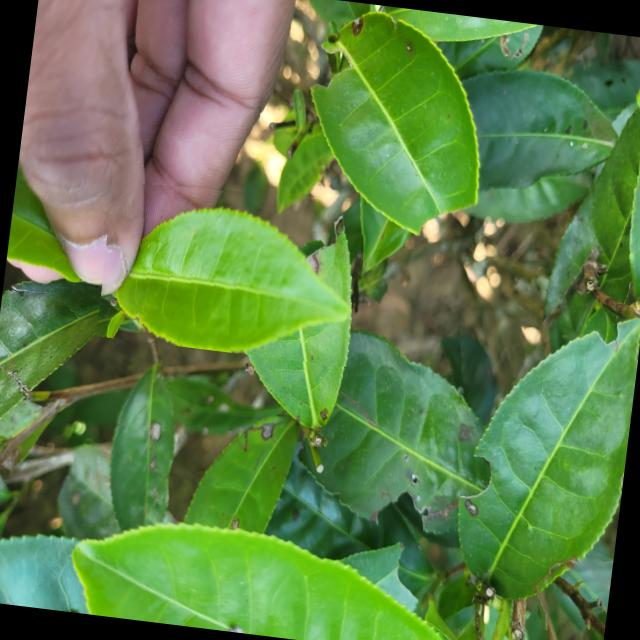Catagory A(1-2 days): (92, 170, 368, 366)
